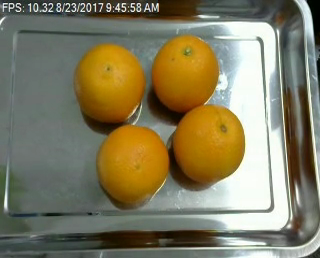Orange: (97, 123, 169, 204), (74, 42, 146, 122), (173, 105, 245, 184), (152, 36, 219, 112)
